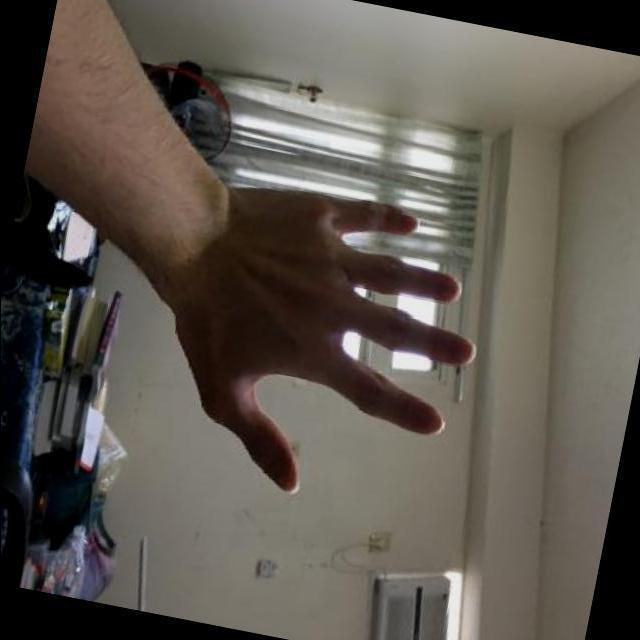hand: (110, 150, 509, 534)
